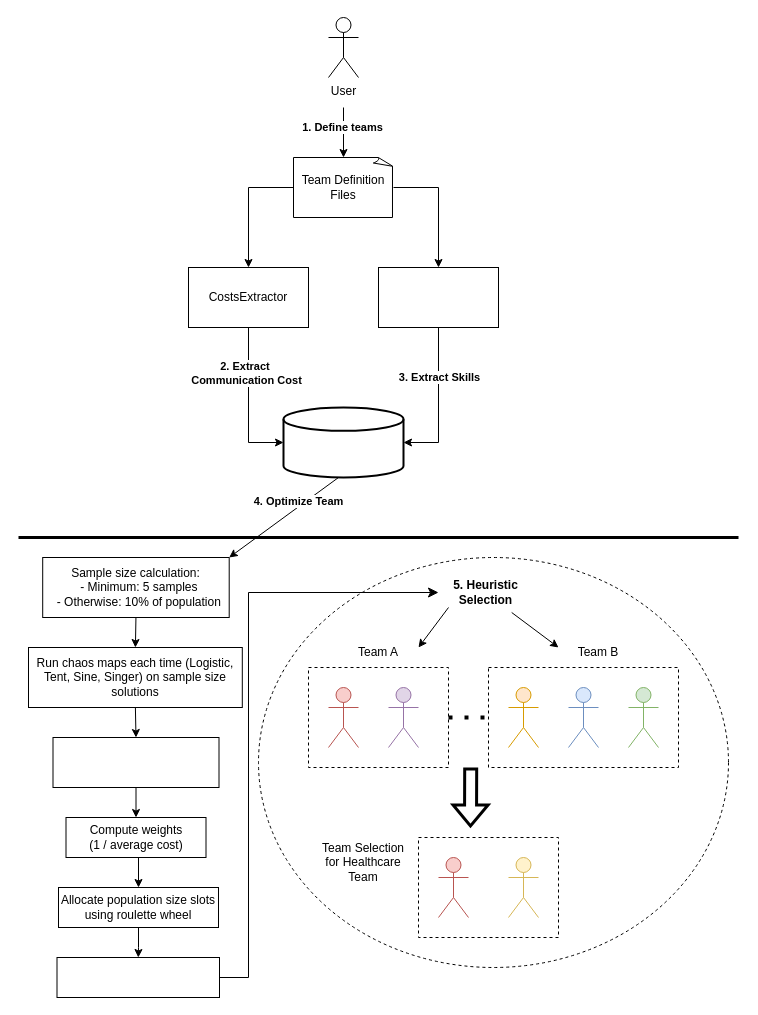
The diagram is 758 pixels wide and 1015 high, and some of its shapes have lost their labels. Here are the shapes that lost their labels. From the top down, the centre of each, then its label:
At (438,297): "SkillsExtractor".
At (343,442): "Costs and Skills Lookup Table".
At (135,762): "Calculate average cost for each map type".
At (138,977): "Generate full population with assigned maps".
